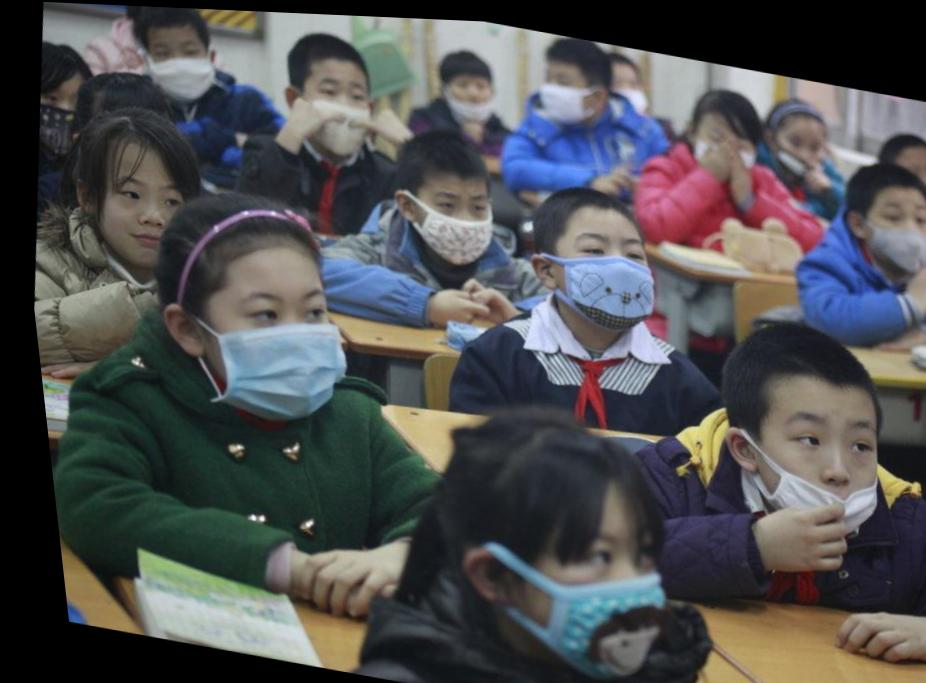NONE: (80, 168, 194, 273)
OK: (476, 504, 664, 682), (196, 271, 356, 423), (537, 216, 660, 330), (290, 70, 379, 155), (139, 22, 225, 104), (854, 182, 926, 275), (30, 76, 101, 160), (531, 56, 604, 125), (684, 111, 757, 180)
WRONG: (730, 387, 882, 536), (396, 170, 496, 265), (762, 113, 827, 175), (437, 67, 500, 127)
